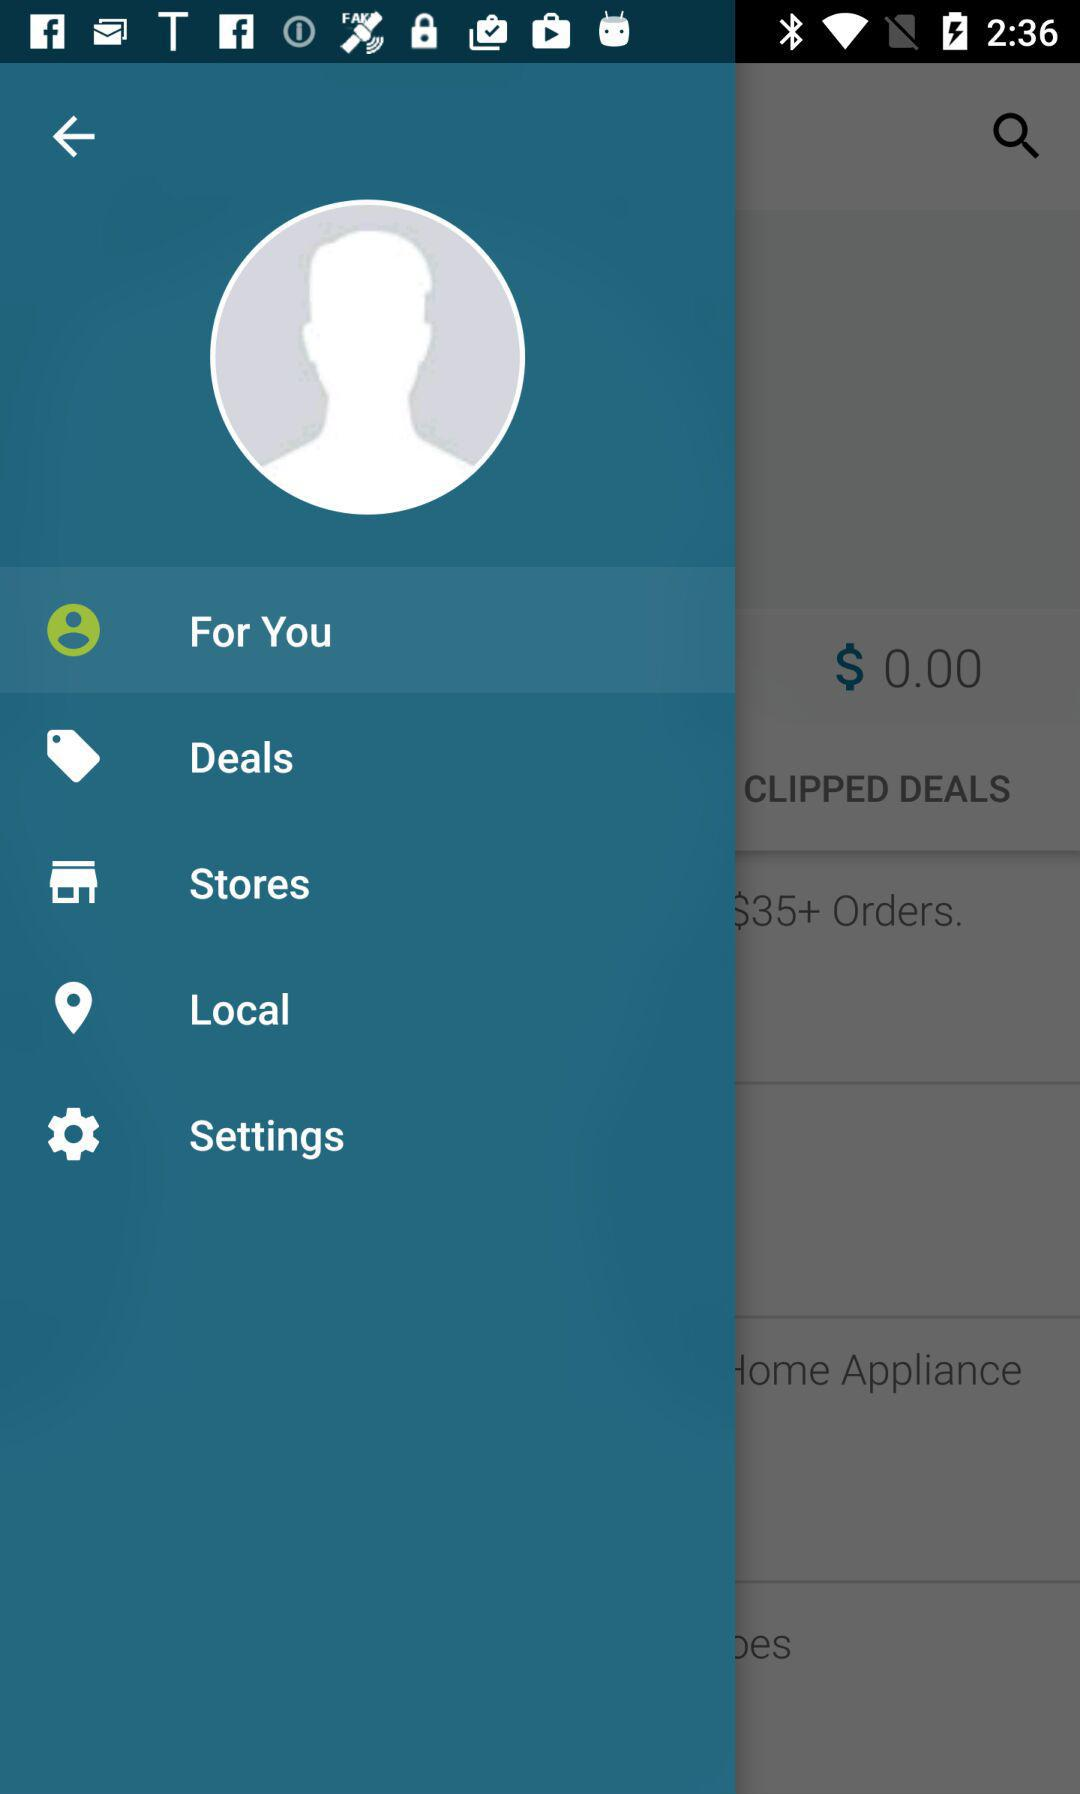Drawer: (1, 64, 735, 1794)
Icon: (210, 199, 527, 516), (46, 728, 102, 786), (47, 1106, 102, 1162), (47, 604, 102, 659), (992, 113, 1040, 161), (54, 982, 95, 1035), (53, 114, 97, 161)
Image: (49, 860, 99, 906)
Text: (746, 775, 1008, 807), (749, 891, 953, 929), (835, 639, 979, 692), (839, 1354, 1020, 1394), (190, 1117, 346, 1162), (191, 614, 334, 651), (190, 866, 311, 902), (191, 739, 295, 777), (191, 991, 291, 1026)
UpperTaskBar: (1, 1, 1080, 64)
